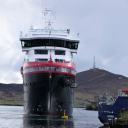cruises: (20, 7, 81, 123)
